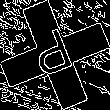P_S: (28, 25, 82, 85)
